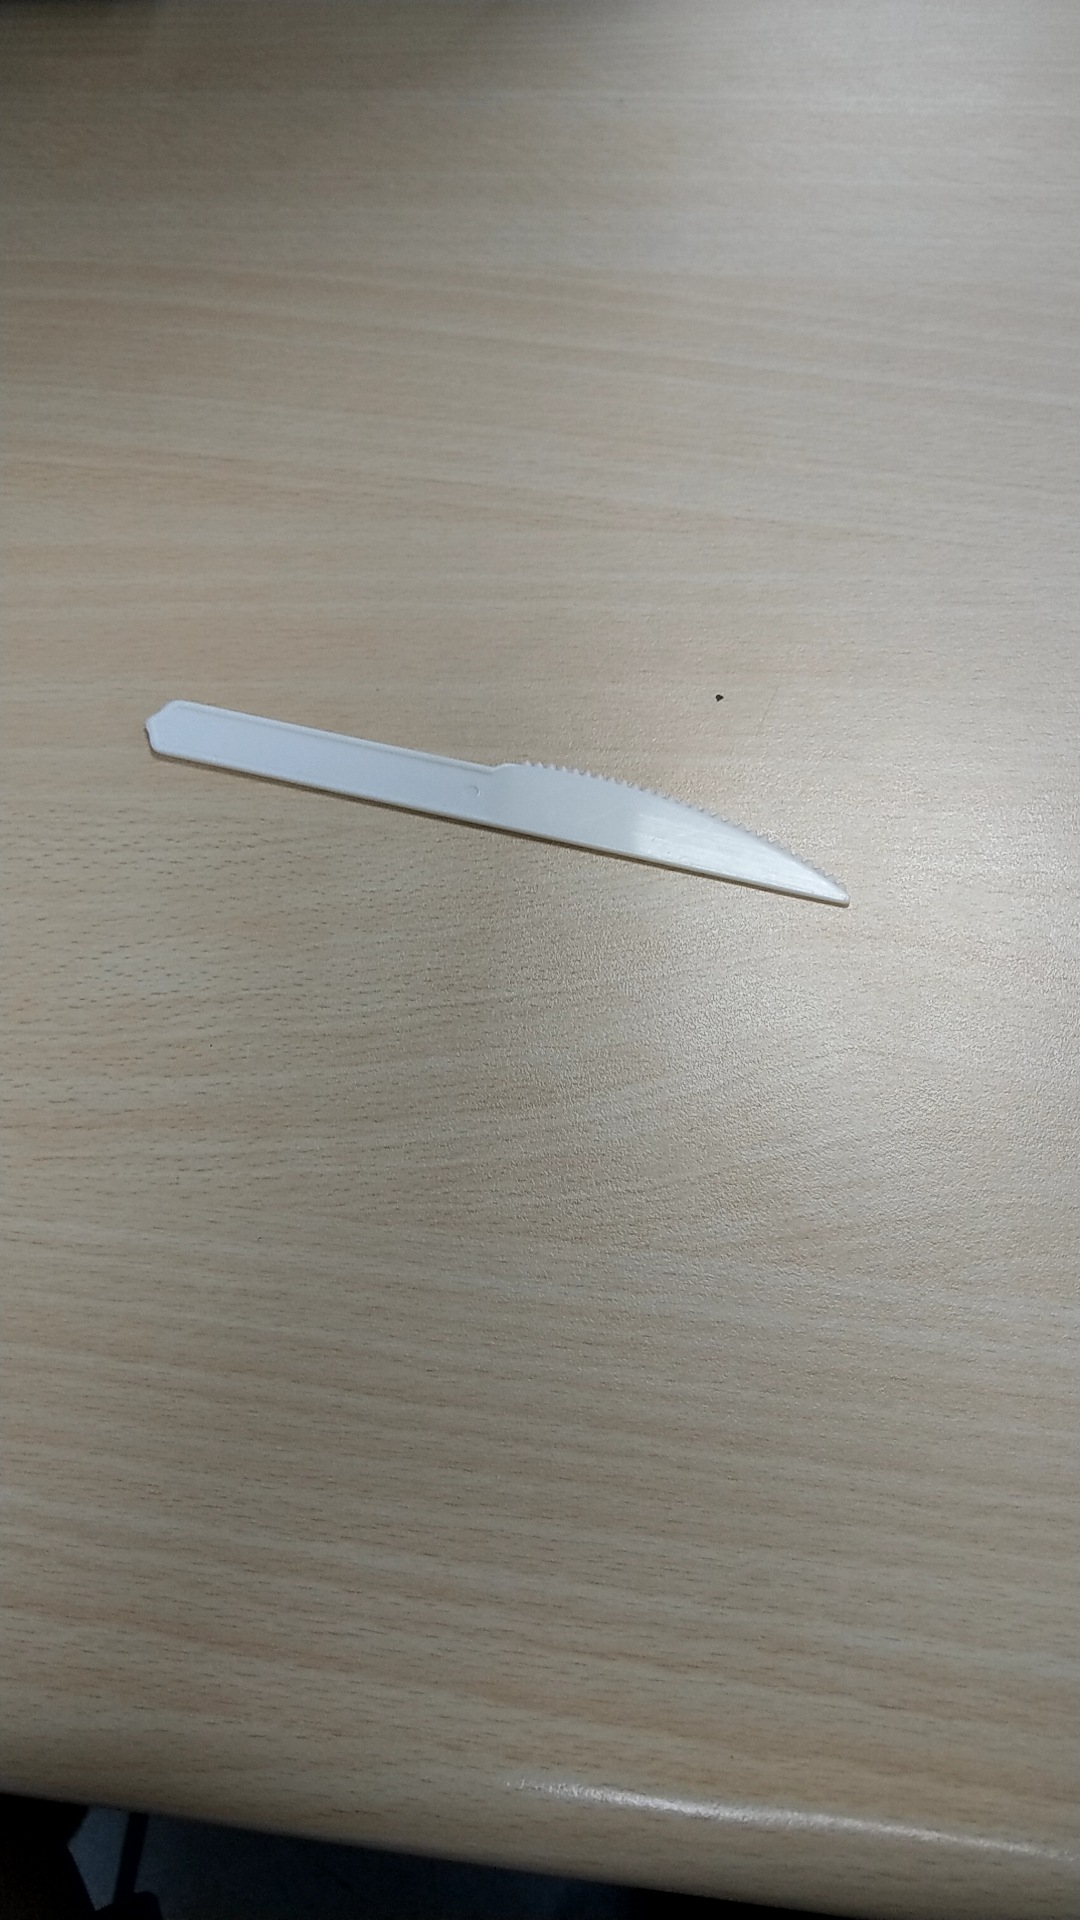knife: (137, 669, 887, 936)
